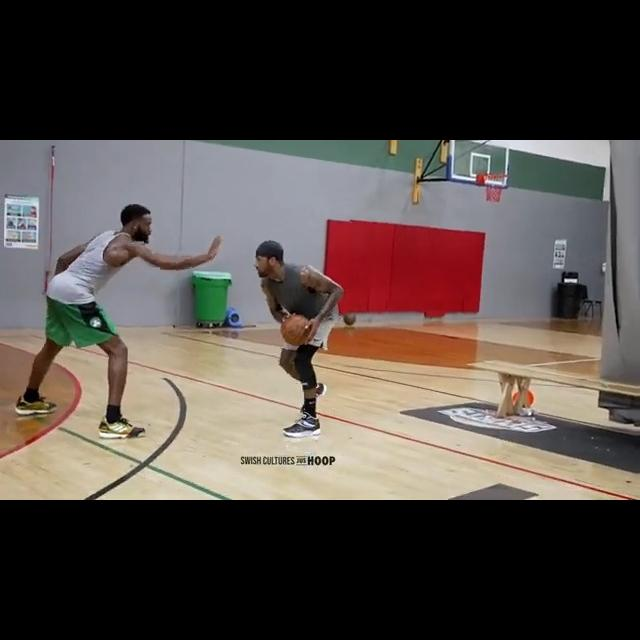basketball: (281, 314, 313, 346), (343, 312, 356, 326)
hoop: (484, 173, 508, 204)
person: (15, 202, 221, 441), (254, 240, 340, 439)
